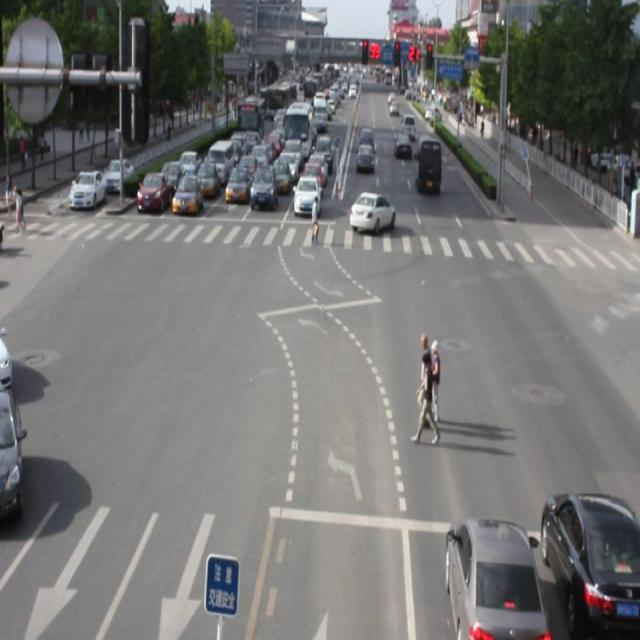car: (535, 493, 640, 640), (442, 516, 541, 640), (1, 386, 24, 521), (350, 190, 396, 234)
